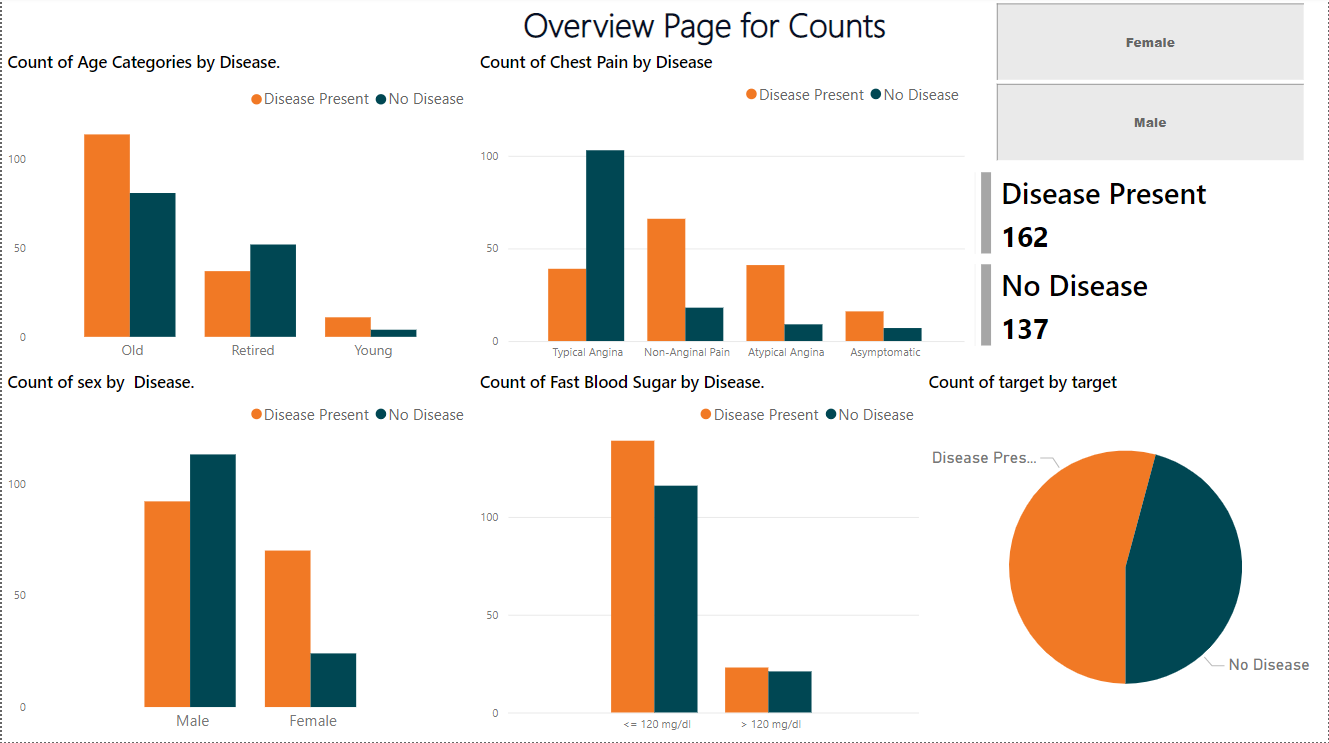

The dashboard page shown, as its layout file describes it:
{"tool":"powerbi","page":{"name":"General View","canvas":[1280,720],"ordinal":0},"visuals":[{"type":"clusteredColumnChart","title":"Count of Age Categories by Disease.","fields":{"Category":["preprocesed heart disease.age_category"],"Y":["CountNonNull(preprocesed heart disease.age_category)"],"Series":["preprocesed heart disease.target"]},"box":[0,51.9,455.9,308.7],"z":0},{"type":"slicer","fields":{"Values":["preprocesed heart disease.sex"]},"box":[933.5,0,346.1,165.2],"z":1000},{"type":"clusteredColumnChart","title":"Count of sex by  Disease.","fields":{"Category":["preprocesed heart disease.sex"],"Y":["CountNonNull(preprocesed heart disease.sex)"],"Series":["preprocesed heart disease.target"]},"box":[0,360.6,455.9,359.4],"z":2000},{"type":"clusteredColumnChart","title":"Count of Chest Pain by Disease","fields":{"Category":["preprocesed heart disease.chest_pain"],"Y":["CountNonNull(preprocesed heart disease.chest_pain)"],"Series":["preprocesed heart disease.target"]},"box":[455.9,51.9,477.6,308.7],"z":3000},{"type":"clusteredColumnChart","title":"Count of Fast Blood Sugar by Disease.","fields":{"Category":["preprocesed heart disease.fast_bld_sugar"],"Y":["CountNonNull(preprocesed heart disease.fast_bld_sugar)"],"Series":["preprocesed heart disease.target"]},"box":[456,361,434,359],"z":4000},{"type":"pieChart","fields":{"Category":["preprocesed heart disease.target"],"Y":["CountNonNull(preprocesed heart disease.target)"]},"box":[888.8,360.6,390.8,359.4],"z":5000},{"type":"multiRowCard","fields":{"Values":["preprocesed heart disease.target","CountNonNull(preprocesed heart disease.target)"]},"box":[933.5,165.2,346.1,195.4],"z":6000},{"type":"textbox","box":[466.7,0,422.1,61.5],"z":7000}]}

Visuals, with their boxes in screenshot pixels (x1, y1, x2, y2), scaled from the page's 1280x720 canvas onto the 1329x743 screenshot:
"Count of Age Categories by Disease." clusteredColumnChart: 0, 54, 473, 372
slicer - preprocesed heart disease.sex: 969, 0, 1328, 170
"Count of sex by  Disease." clusteredColumnChart: 0, 372, 473, 742
"Count of Chest Pain by Disease" clusteredColumnChart: 473, 54, 969, 372
"Count of Fast Blood Sugar by Disease." clusteredColumnChart: 473, 373, 924, 742
pieChart - preprocesed heart disease.target x CountNonNull(preprocesed heart disease.target): 923, 372, 1328, 742
multiRowCard - preprocesed heart disease.target x CountNonNull(preprocesed heart disease.target): 969, 170, 1328, 372
textbox: 485, 0, 923, 63
